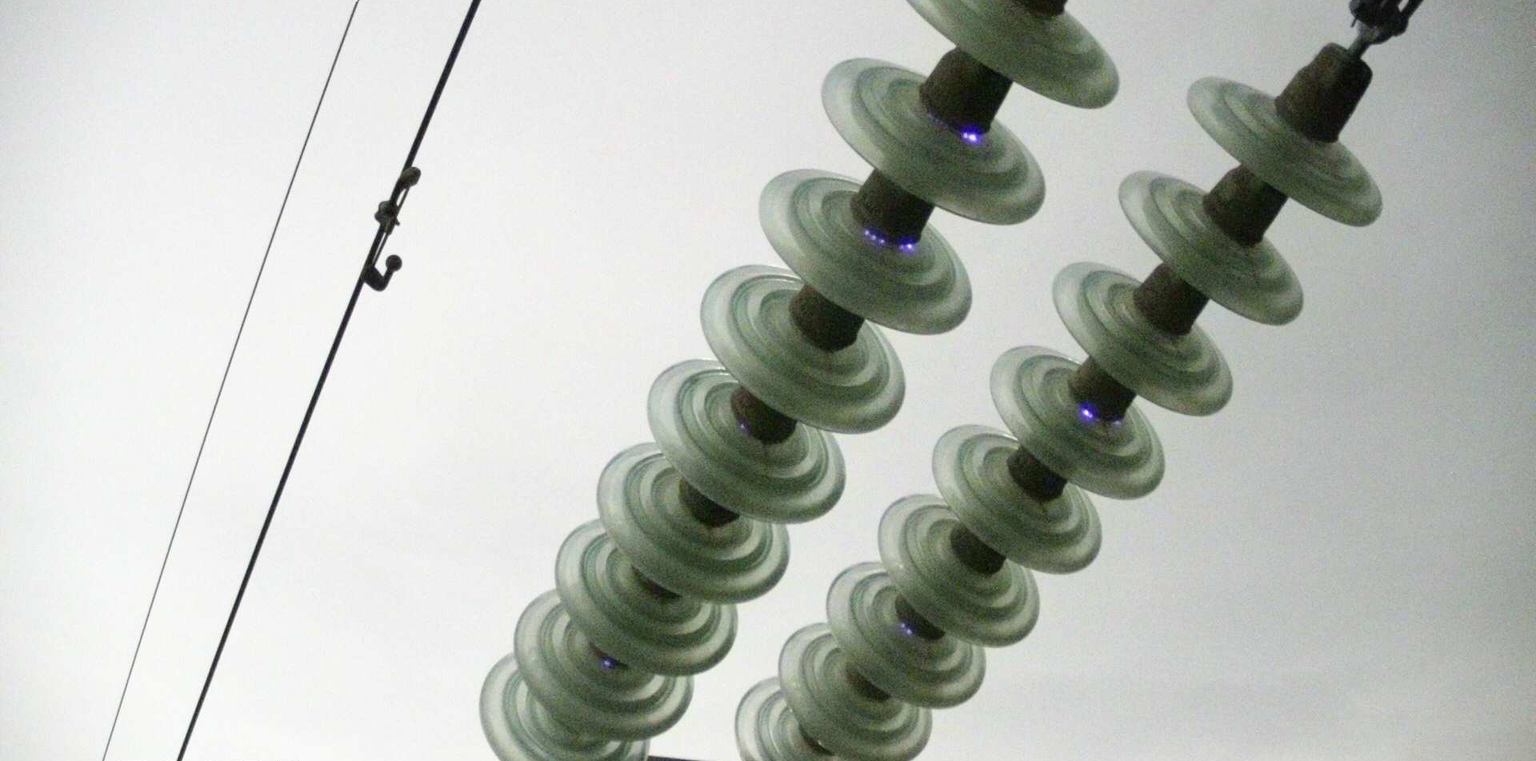绝缘子污闪: (862, 228, 886, 245), (959, 130, 981, 144), (1078, 406, 1097, 421), (899, 620, 914, 636), (600, 656, 614, 671), (897, 241, 914, 253), (736, 421, 750, 432), (1113, 418, 1122, 427)
